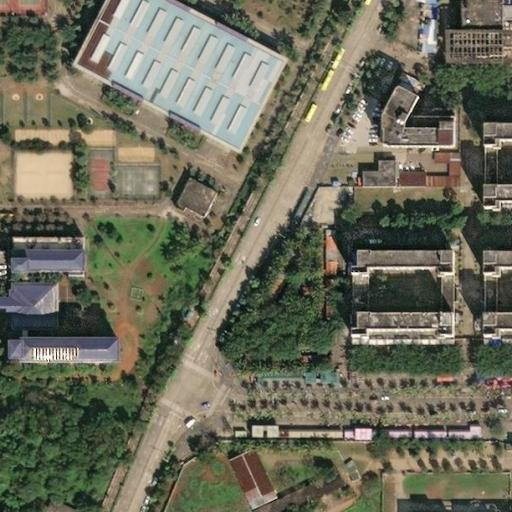building: (62, 0, 278, 144), (371, 81, 444, 145), (238, 466, 332, 512), (431, 0, 512, 51), (337, 316, 445, 344), (337, 247, 445, 275), (477, 248, 512, 334), (478, 119, 512, 207), (216, 445, 264, 505), (0, 337, 106, 364), (161, 172, 203, 213), (413, 153, 449, 185), (343, 425, 399, 441), (350, 158, 383, 184), (449, 500, 505, 512), (243, 370, 292, 382), (436, 425, 468, 442), (399, 428, 436, 441), (464, 367, 506, 377), (292, 369, 322, 382), (385, 172, 414, 185), (332, 460, 348, 480), (406, 23, 417, 51), (240, 296, 258, 313), (383, 368, 417, 377), (350, 367, 384, 376), (258, 275, 274, 293), (233, 318, 248, 335), (312, 260, 328, 275), (336, 367, 350, 382), (312, 248, 326, 261), (425, 366, 441, 377), (313, 279, 325, 293), (407, 6, 419, 19), (238, 420, 250, 433), (313, 234, 324, 248), (313, 304, 322, 320), (254, 421, 265, 433), (332, 427, 343, 438), (313, 293, 322, 304), (111, 137, 123, 143), (313, 229, 325, 235), (222, 430, 233, 436), (506, 368, 512, 377), (320, 180, 327, 186)
